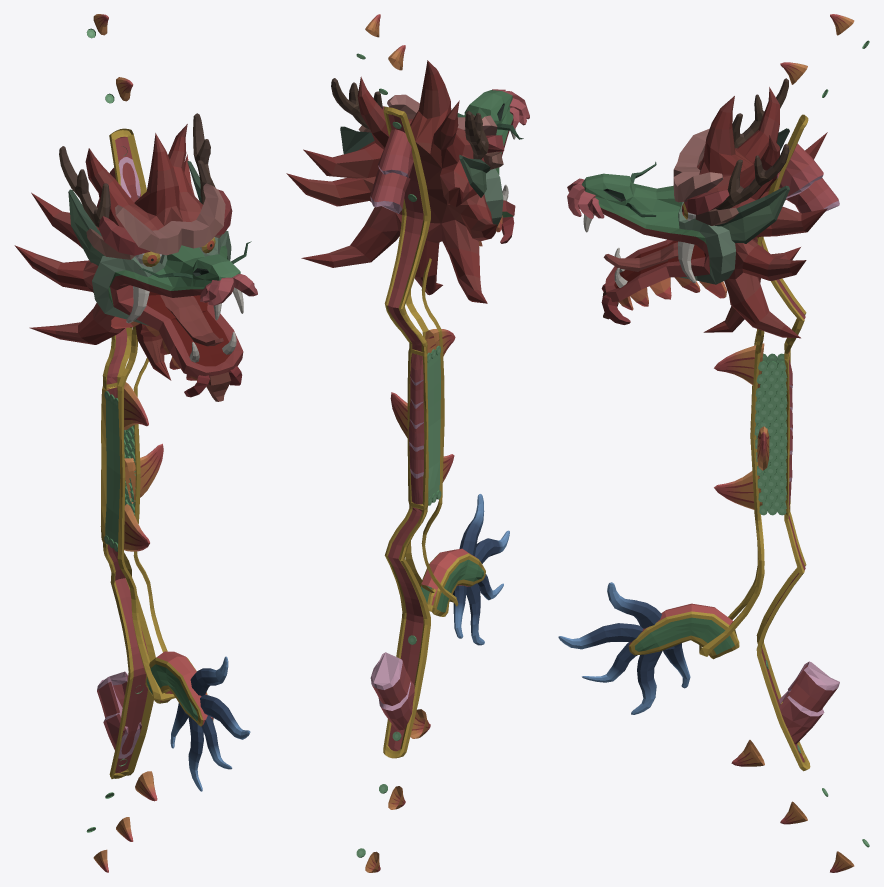
File: largeBowChineseDragonHeadHandle.glb
3 renders of one model, left to right at view 1: azimuth 30°, elevation 25°; view 2: azimuth 150°, elevation 25°; view 3: azimuth 270°, elevation 25°, orthographic.
Visible parts, largest first — view 1: largeBowChineseDragonHeadHandle; view 2: largeBowChineseDragonHeadHandle; view 3: largeBowChineseDragonHeadHandle.
Boxes of the visible parts, box(x1,y1,x2,y2) form: largeBowChineseDragonHeadHandle: box(14, 14, 257, 872); largeBowChineseDragonHeadHandle: box(286, 14, 529, 872); largeBowChineseDragonHeadHandle: box(558, 14, 869, 872).
Bounding box in the file's own units: 0.4222 × 1.64 × 0.5369.
